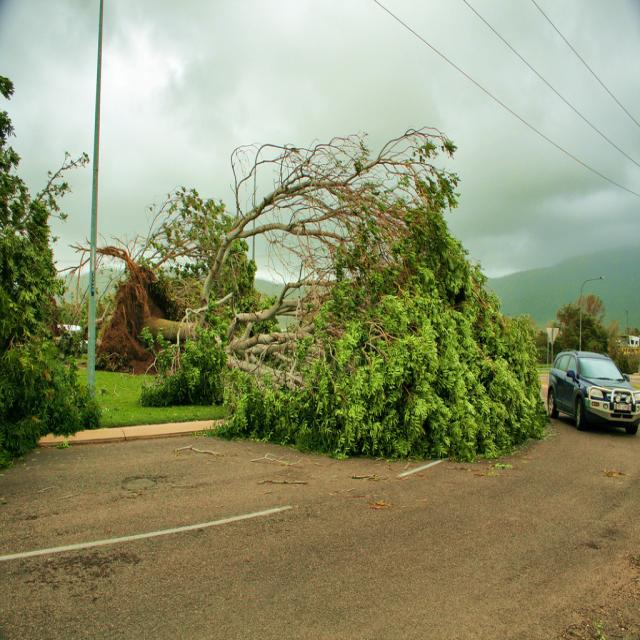car: (547, 346, 639, 428)
